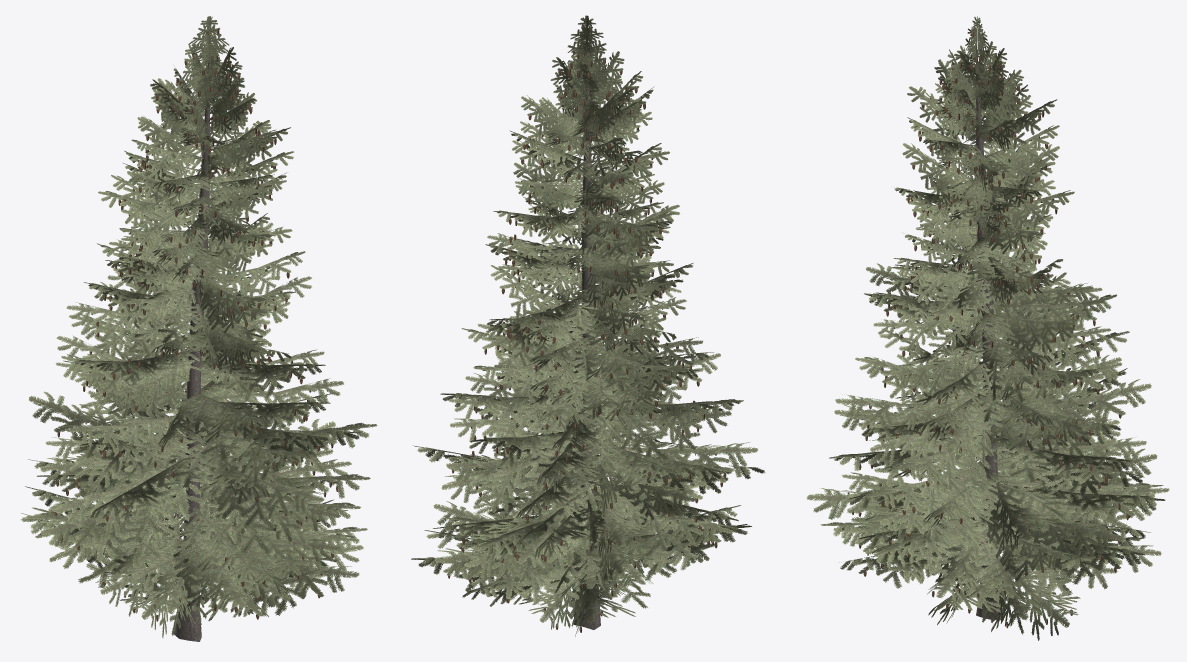
Rendered from Picea_Abies_Autumn_Adult.glb.
3 views of the same model, side by side, from view 1: azimuth 30°, elevation 25°; view 2: azimuth 150°, elevation 25°; view 3: azimuth 270°, elevation 25° (orthographic). The views are drawn at different scales.
Parts seen in each view (by area): view 1: Picea_Abies_Autumn_Adult__LOD3; view 2: Picea_Abies_Autumn_Adult__LOD3; view 3: Picea_Abies_Autumn_Adult__LOD3.
Boxes of the visible parts, x1,y1,x2,y2 form: Picea_Abies_Autumn_Adult__LOD3: (20, 16, 377, 641); Picea_Abies_Autumn_Adult__LOD3: (411, 15, 765, 636); Picea_Abies_Autumn_Adult__LOD3: (806, 16, 1169, 640).
Size of the model in its own units: 14.23 by 25.55 by 14.16.
3 materials, 3 textured.
